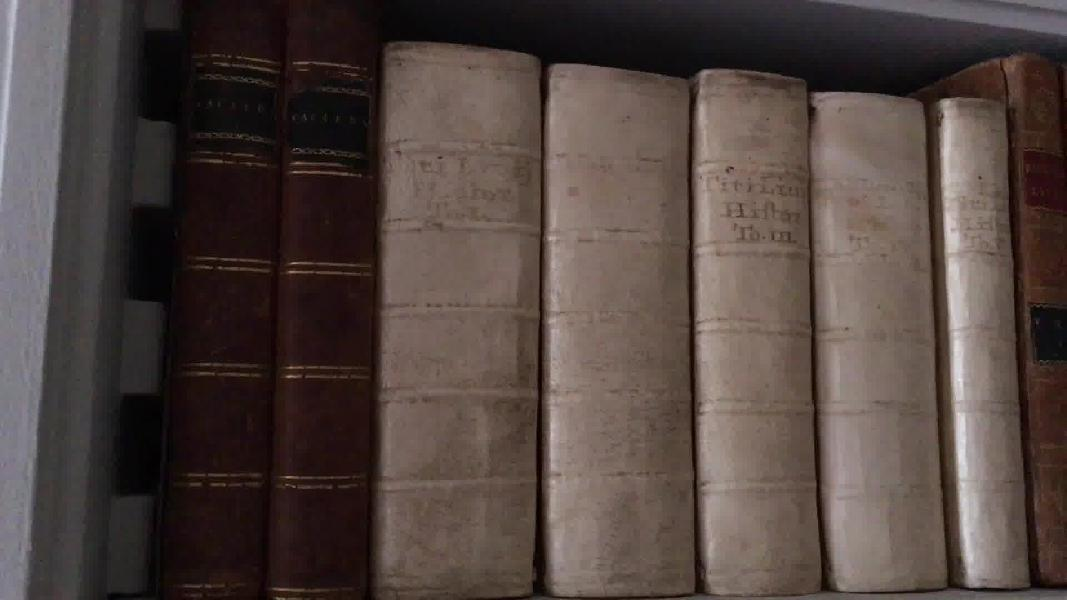Kk4-1_2: (139, 5, 382, 600)
Kk4-3_7: (363, 21, 1045, 600)
